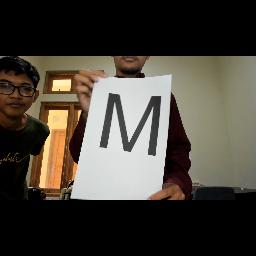m: (98, 91, 162, 159)
